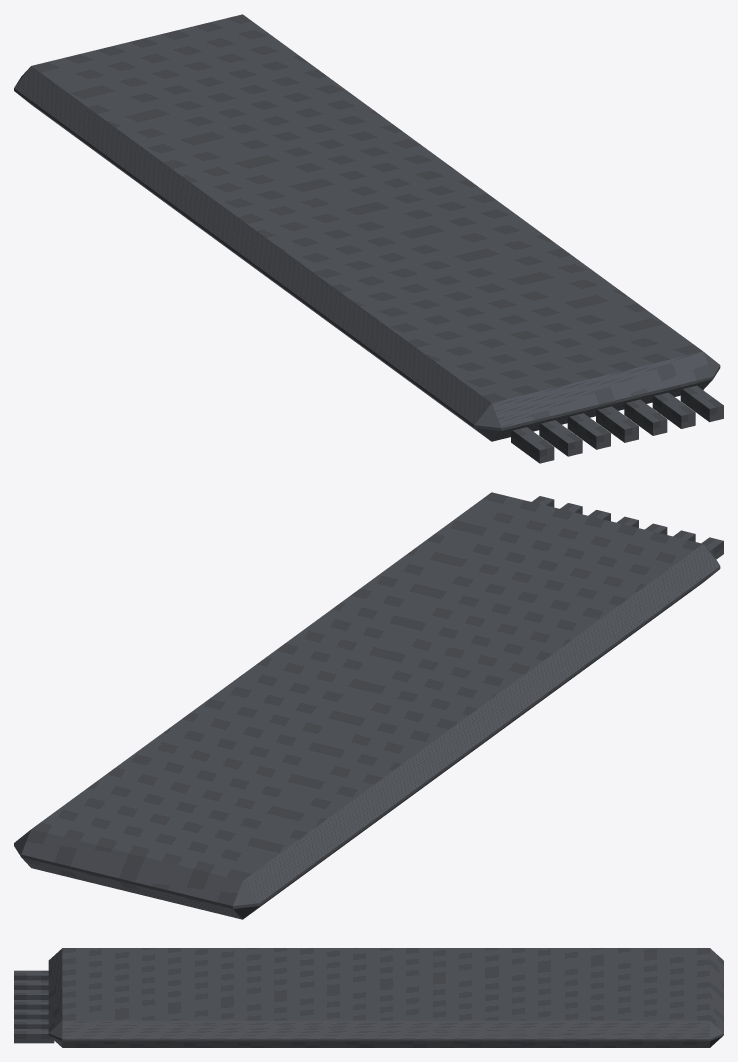
Rendered from long_knit_scarf.glb.
3 views of the same model, one above another, from view 1: azimuth 30°, elevation 25°; view 2: azimuth 150°, elevation 25°; view 3: azimuth 270°, elevation 25° (orthographic). The views are drawn at different scales.
Parts seen in each view (by area): view 1: block_woven scarf, block_fringe (×7); view 2: block_woven scarf; view 3: block_woven scarf, block_fringe (×7).
Boxes of the visible parts, bbox=[...] form: block_woven scarf: bbox=[14, 14, 720, 441]; block_fringe (×7): bbox=[511, 385, 723, 463]; block_woven scarf: bbox=[14, 492, 720, 919]; block_woven scarf: bbox=[48, 948, 723, 1047]; block_fringe (×7): bbox=[14, 970, 54, 1043].
Bounding box in the file's own units: 0.08 × 0.0121 × 0.2844.
1 material, 1 textured.
